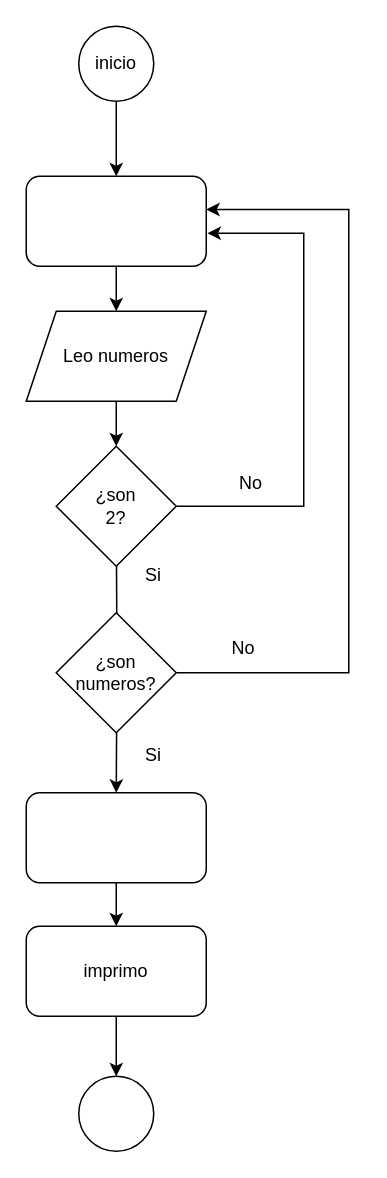
This 387x1178 diagram has some shape labels left out. Here are the shapes that lost their labels. From the top down, the centre of each, then its label:
At pixel 115 220: "solicito 2 numeros".
At pixel 115 837: "los sumo".
At pixel 115 1113: "fin".
